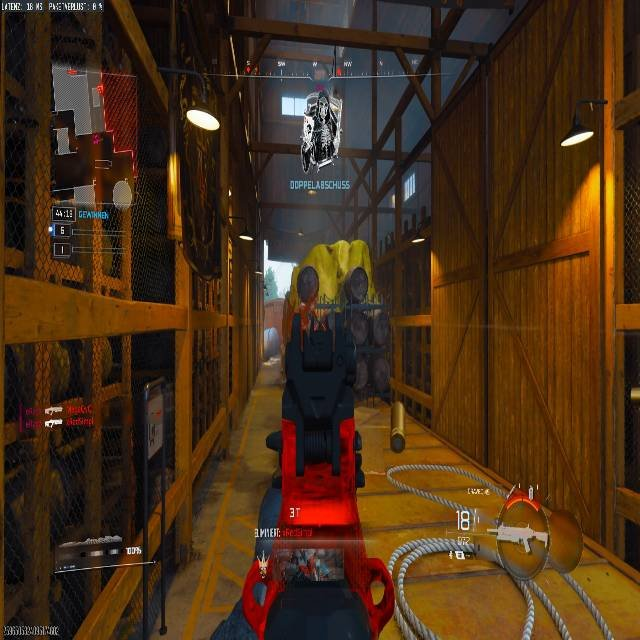player: (300, 87, 341, 170)
